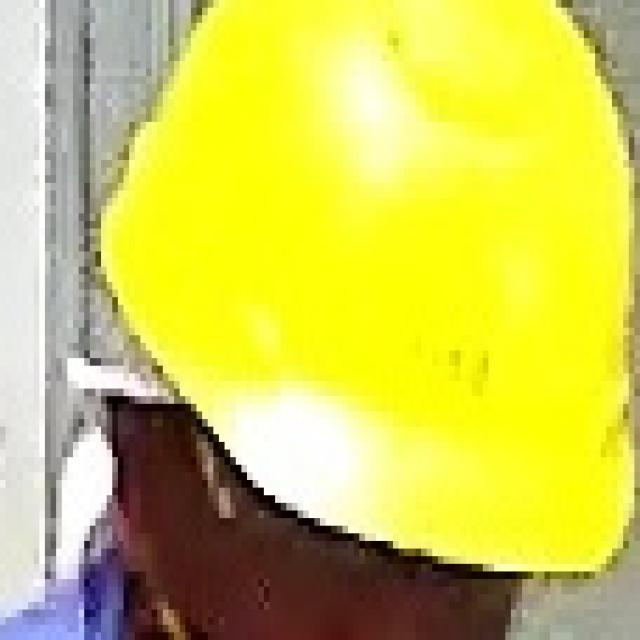yellow helmet: (91, 1, 640, 584)
